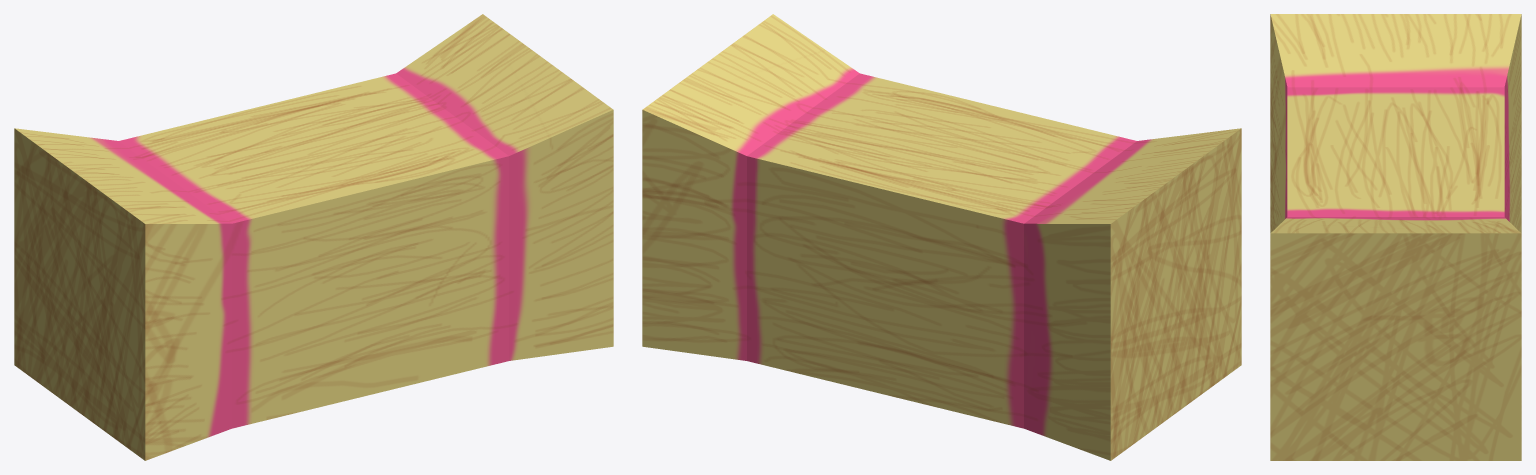
Rendered from haybale.fbx.
The picture shows the model from 3 angles, left to right: view 1: azimuth 30°, elevation 25°; view 2: azimuth 150°, elevation 25°; view 3: azimuth 270°, elevation 25°; orthographic projection. The views are drawn at different scales.
Parts seen in each view (by area): view 1: Cube; view 2: Cube; view 3: Cube.
Boxes of the visible parts, left/top/right/bottom form: Cube: left=14, top=14, right=613, bottom=460; Cube: left=642, top=14, right=1241, bottom=460; Cube: left=1270, top=14, right=1521, bottom=460.
Size of the model in its own units: 4.14 by 2 by 2.
